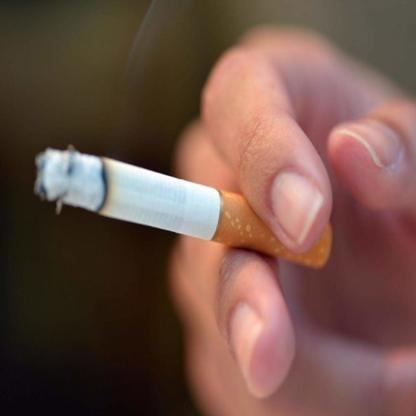trash: (31, 148, 334, 270)
